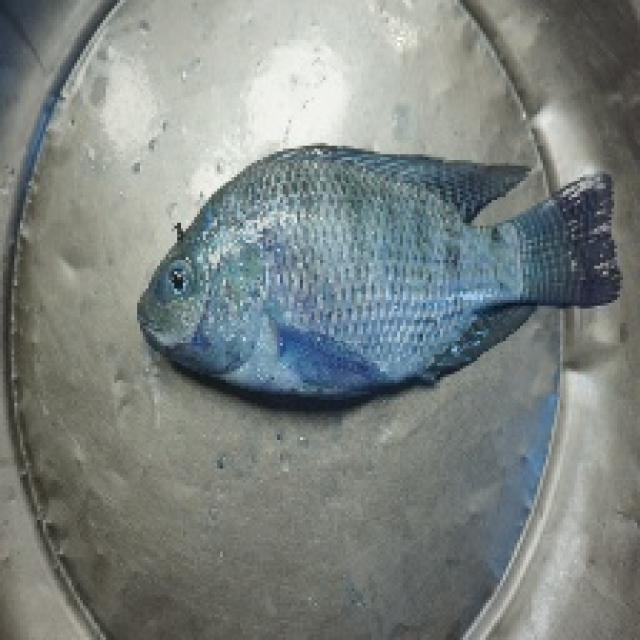Fresh: (161, 257, 203, 306)
